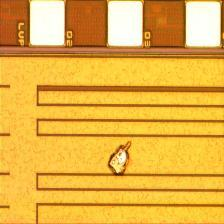PARTICLE: (108, 141, 133, 178)
